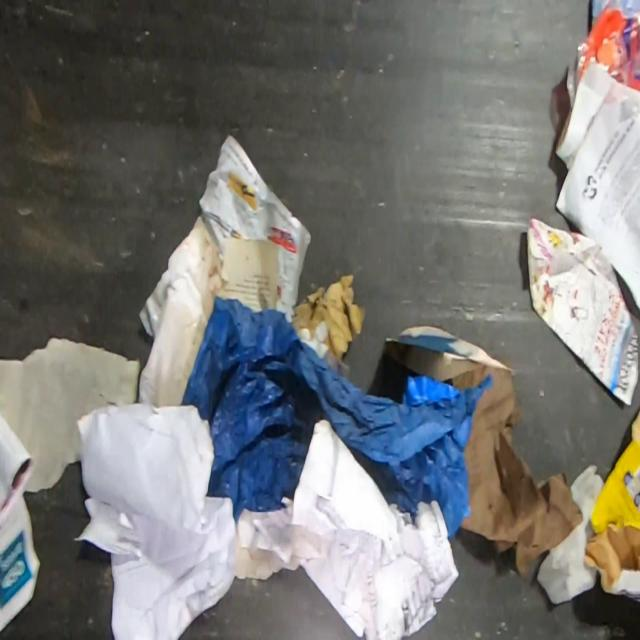cardboard: (385, 324, 584, 577), (584, 409, 640, 602), (292, 275, 366, 361)
soft_plastic: (180, 295, 494, 541), (566, 0, 640, 111)
